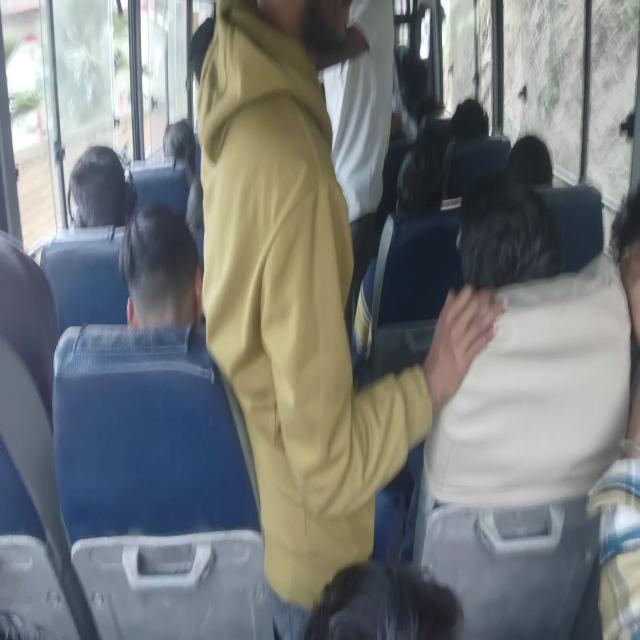person: (270, 546, 472, 640), (567, 382, 640, 640), (221, 6, 336, 152), (0, 223, 62, 397), (467, 189, 547, 319), (55, 115, 134, 233), (332, 5, 388, 155), (128, 205, 191, 316), (601, 192, 640, 342), (392, 152, 449, 210), (446, 88, 492, 154), (512, 131, 554, 188), (157, 112, 198, 168), (406, 49, 439, 100), (187, 35, 227, 69)
